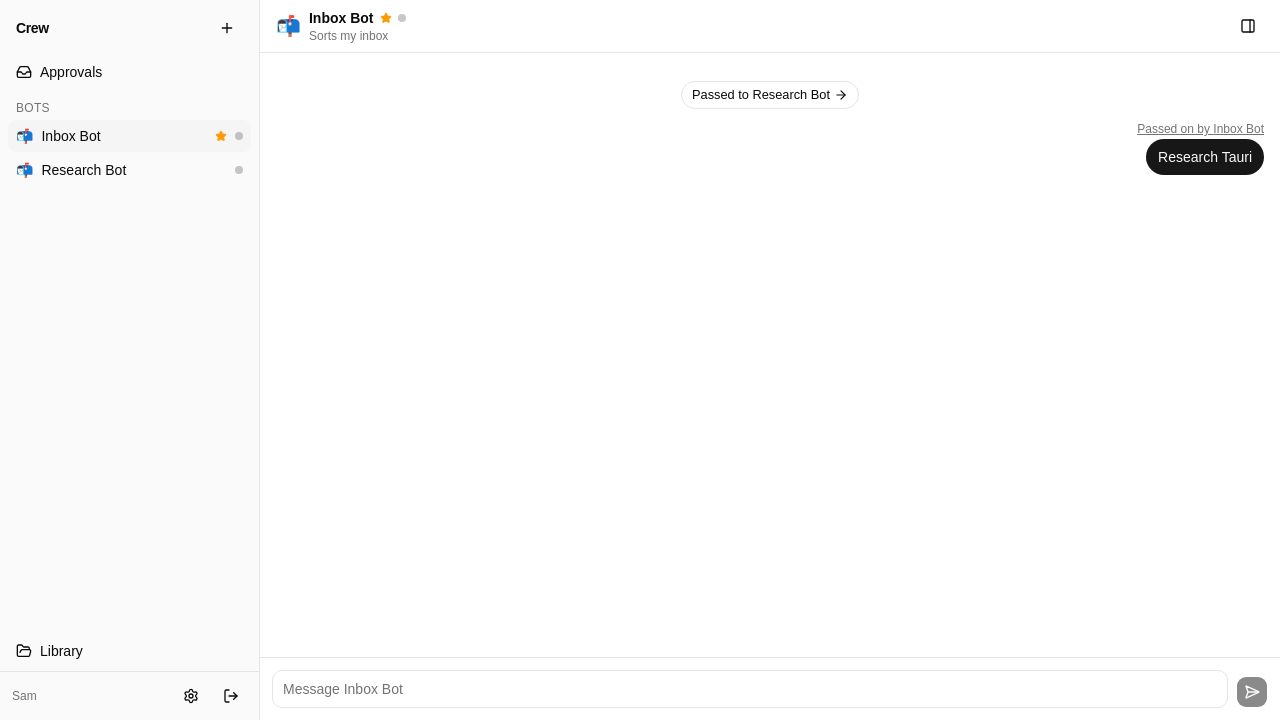
Test: a handoff note opens the other Bot's chat, which shows who passed the task on
This screenshot has width=1280, height=720.
Expected: the element showing "Passed to Research Bot Passed on by Inbox Bot Research Tauri" is shown, [681, 81, 1264, 175]
Click the button "Passed to Research Bot" at x=770, y=95, box [681, 81, 859, 109]
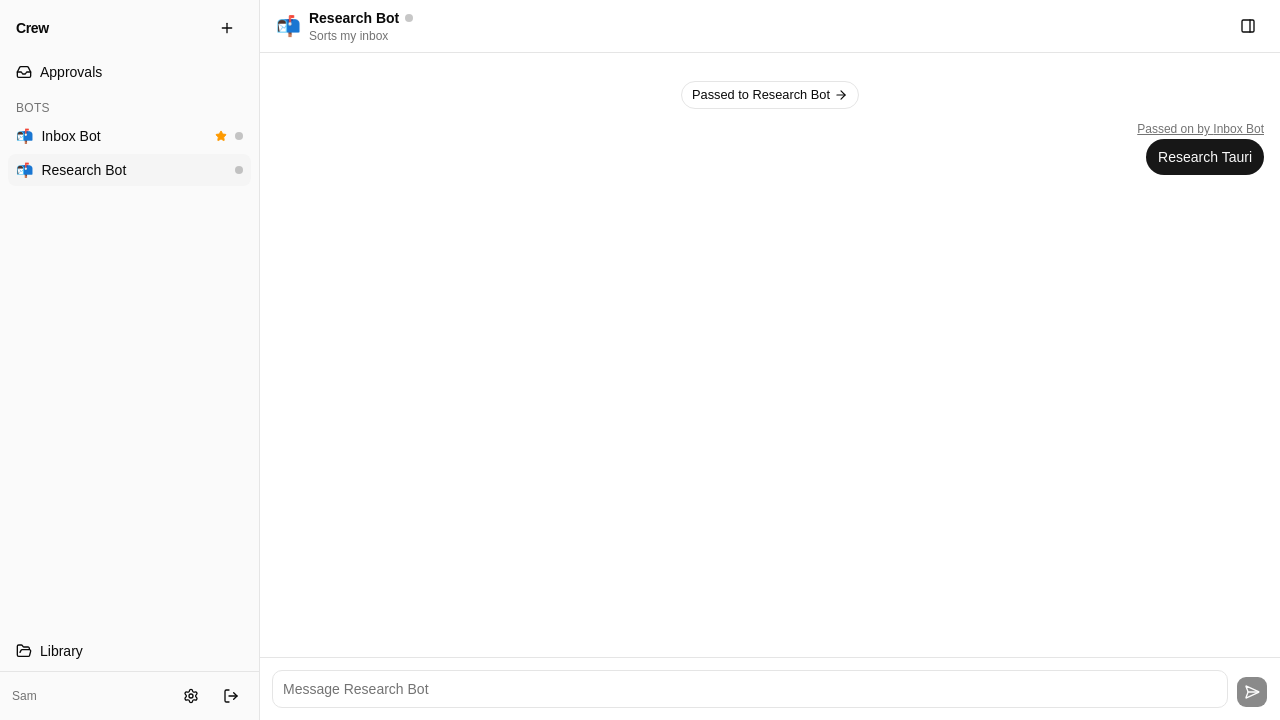
Expected: the button "Passed on by Inbox Bot" is shown, [1137, 121, 1264, 137]
Now the heading "Research Bot" is shown, box [309, 10, 413, 26]
